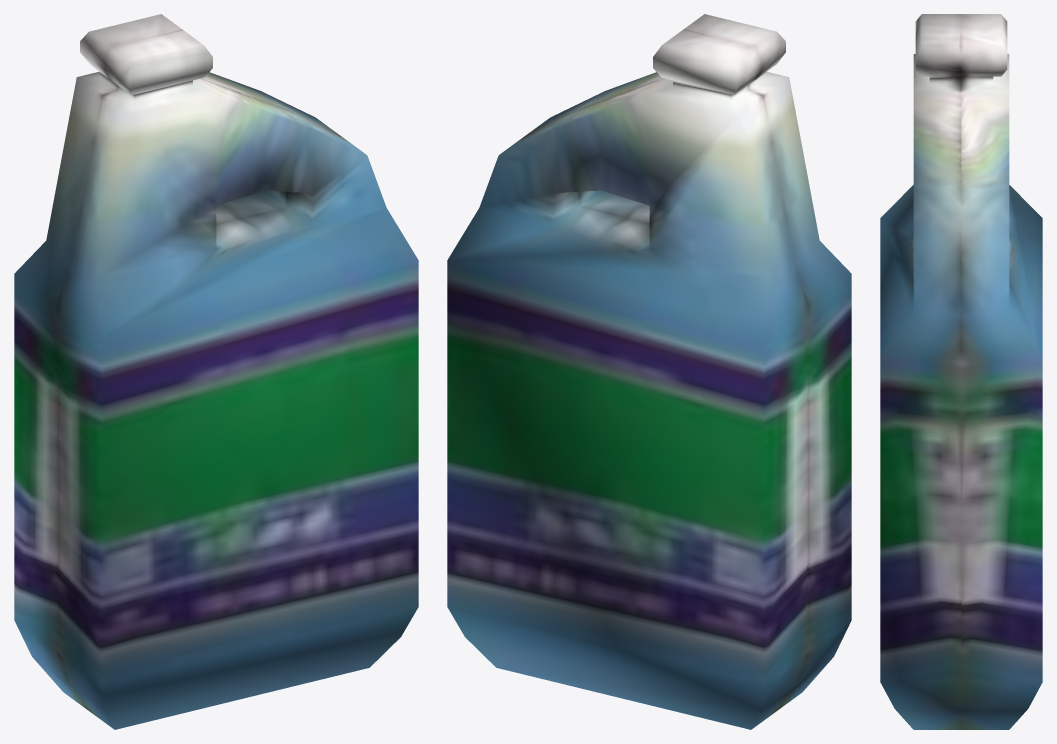
File: blue_disinfectant.FBX
3 renders of one model, left to right at view 1: azimuth 30°, elevation 25°; view 2: azimuth 150°, elevation 25°; view 3: azimuth 270°, elevation 25°, orthographic. The views are drawn at different scales.
Visible parts, largest first — view 1: blue_disinfectant; view 2: blue_disinfectant; view 3: blue_disinfectant.
Part boxes in pixels (bbox=[...]): blue_disinfectant: bbox=[14, 14, 418, 729]; blue_disinfectant: bbox=[447, 14, 851, 729]; blue_disinfectant: bbox=[880, 14, 1042, 729].
Bounding box in the file's own units: 10.07 × 20 × 4.81.
